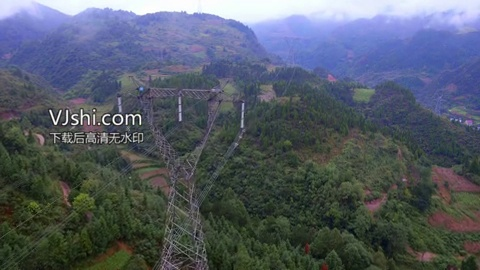tower_body: (124, 80, 250, 270)
tower_foot: (157, 235, 209, 269)
tower_head: (126, 81, 248, 179)
